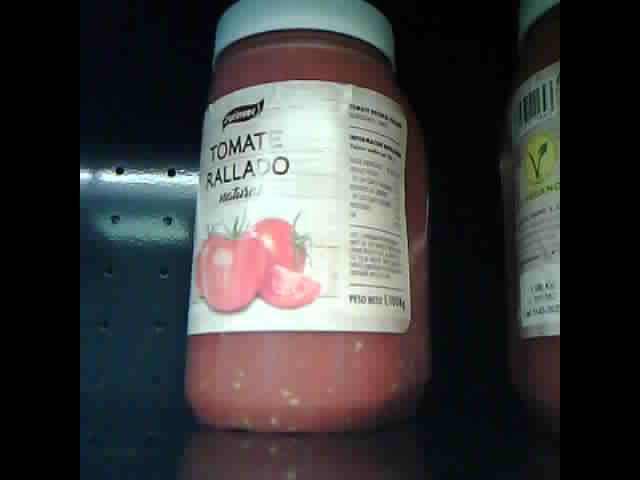tomate: (185, 3, 433, 428), (507, 5, 560, 436)
